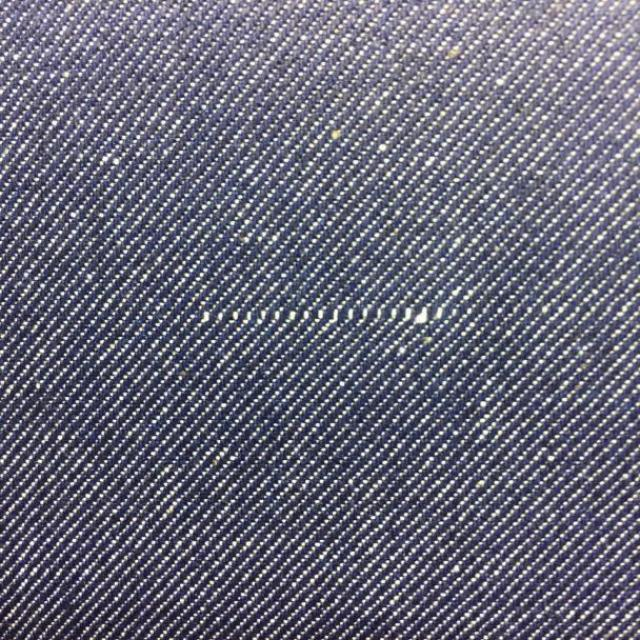Knot: (200, 305, 447, 325)
